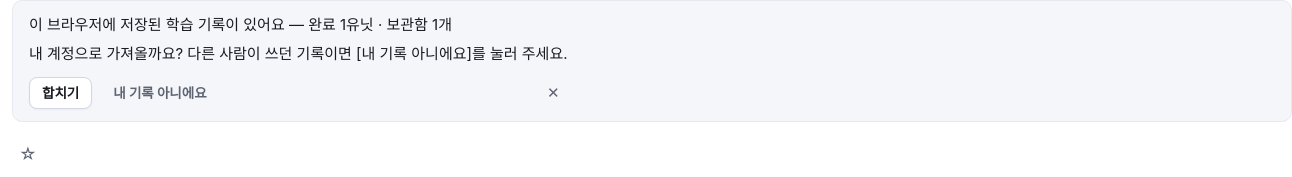
병합 배너 3선택 (AC-G-07~11) › [합치기] 실패면 배너가 남고 브라우저 기록도 남는다
Click the button "합치기". click: (61, 93)
box: [29,77,92,109]
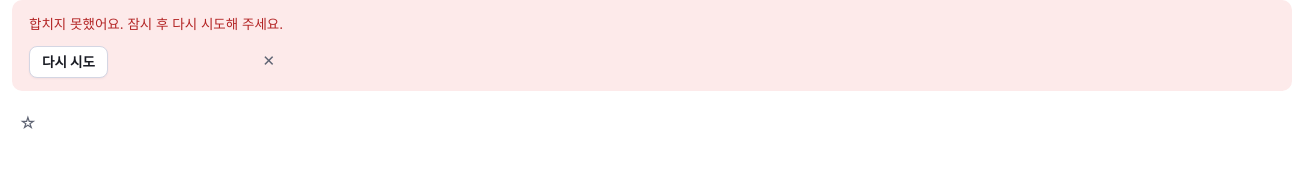
Expected: the text "합치지 못했어요. 잠시 후 다시 시도해 주세요." is shown, [29,13,283,35]
